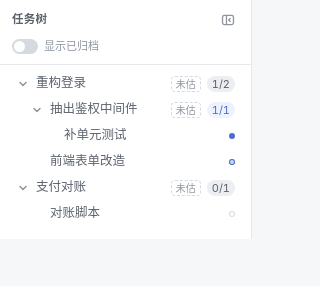
Test: Sidebar › 落库失败但异常不是 ApiError 时用兜底文案，不漏出异常本身
The image size is (320, 286).
Press the mouse on the button "补单元测试" at coordinates (144, 136), box [64,126,223,145]
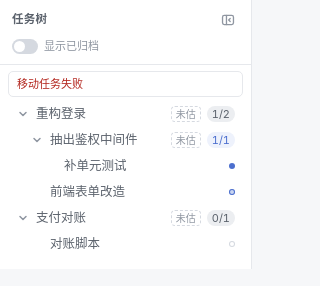
Check: the button "移动任务失败" is shown, box [8,70,243,97]
